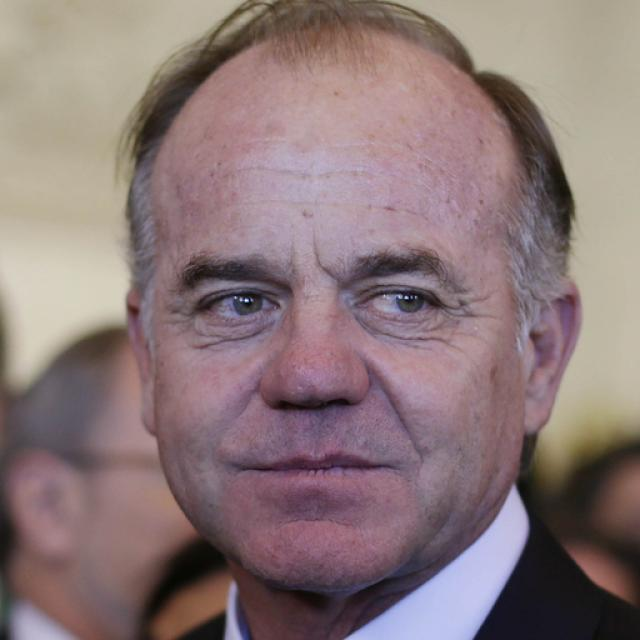Pigmentation: (415, 142, 489, 222)
Wrinkle: (244, 193, 420, 222), (376, 368, 426, 467), (229, 162, 378, 182)
